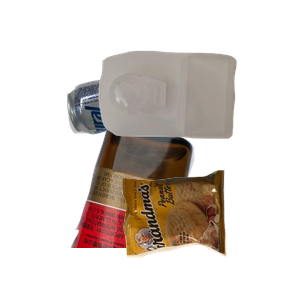glass: (68, 120, 255, 300)
metal: (65, 65, 231, 192)
plastic: (96, 48, 300, 179)
trash: (120, 168, 300, 300)
